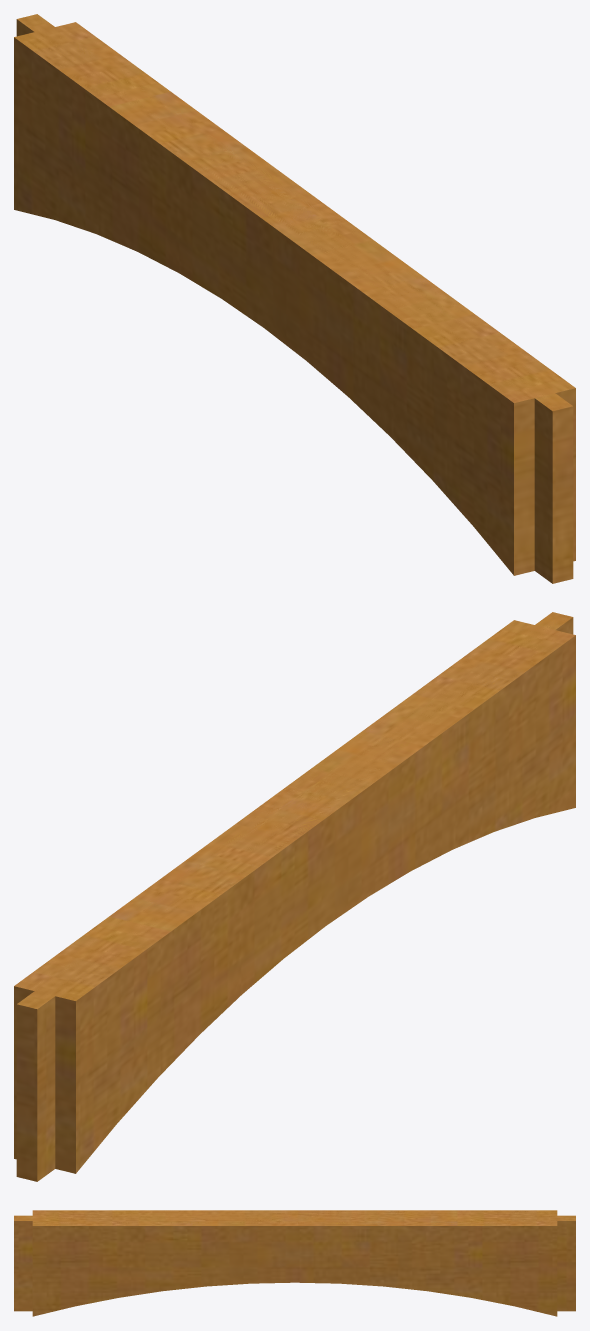
File: original-16.obj
3 renders of one model, top to bottom at view 1: azimuth 30°, elevation 25°; view 2: azimuth 150°, elevation 25°; view 3: azimuth 270°, elevation 25°, orthographic. The views are drawn at different scales.
Visible parts, largest first — view 1: lower_side_rails1/lower_side_rails/mesh22/mesh22-geometry#mesh22; view 2: lower_side_rails1/lower_side_rails/mesh22/mesh22-geometry#mesh22; view 3: lower_side_rails1/lower_side_rails/mesh22/mesh22-geometry#mesh22.
Part boxes in pixels (<box>): lower_side_rails1/lower_side_rails/mesh22/mesh22-geometry#mesh22: <box>14,14,575,583</box>; lower_side_rails1/lower_side_rails/mesh22/mesh22-geometry#mesh22: <box>14,612,575,1181</box>; lower_side_rails1/lower_side_rails/mesh22/mesh22-geometry#mesh22: <box>14,1210,575,1316</box>.
Size of the model in its own units: 0.0393 by 0.1049 by 0.5902.
2 materials, 2 textured.
